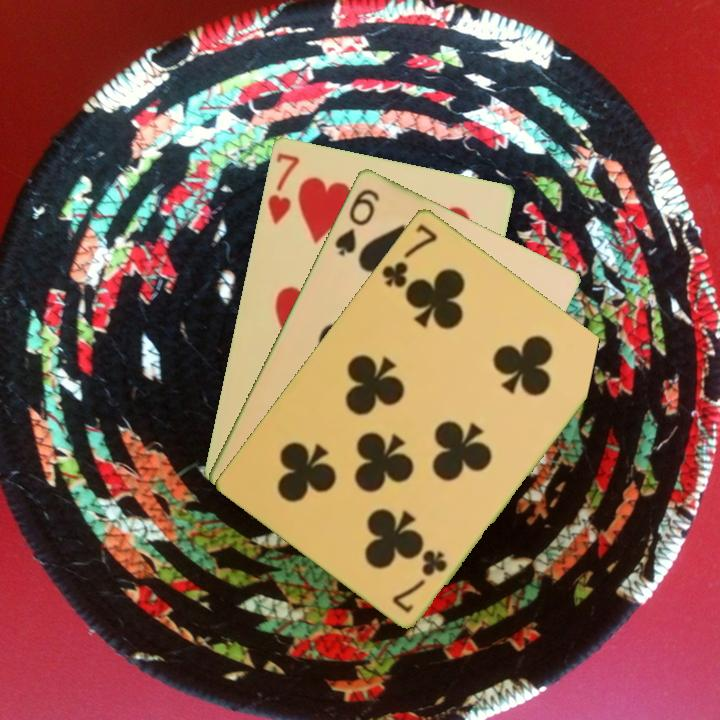6s: (331, 184, 383, 259)
7c: (378, 220, 441, 290), (388, 545, 450, 616)
7h: (263, 149, 303, 227)
